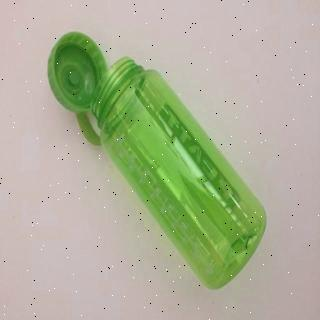Plastic-bottle: (48, 31, 268, 291)
